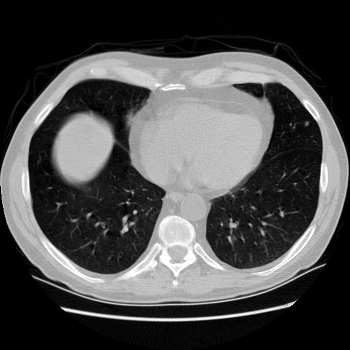nodule: (304, 121, 308, 125)
